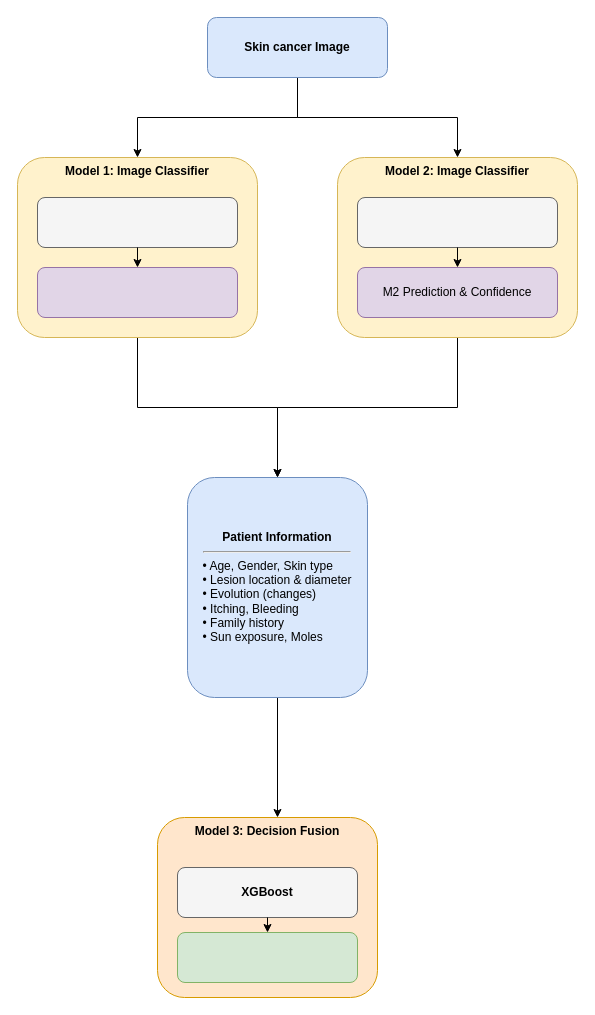
The diagram is 595 pixels wide and 1015 high, and some of its shapes have lost their labels. The shapes that lost their labels are listed below. From the top down, each one's centre as x and y in pixels, then its label:
At (x=137, y=222): "EfficientNet".
At (x=457, y=222): "ResNet50".
At (x=137, y=292): "M1 Prediction & Confidence".
At (x=267, y=957): "Final Output Ensemble Prediction".
